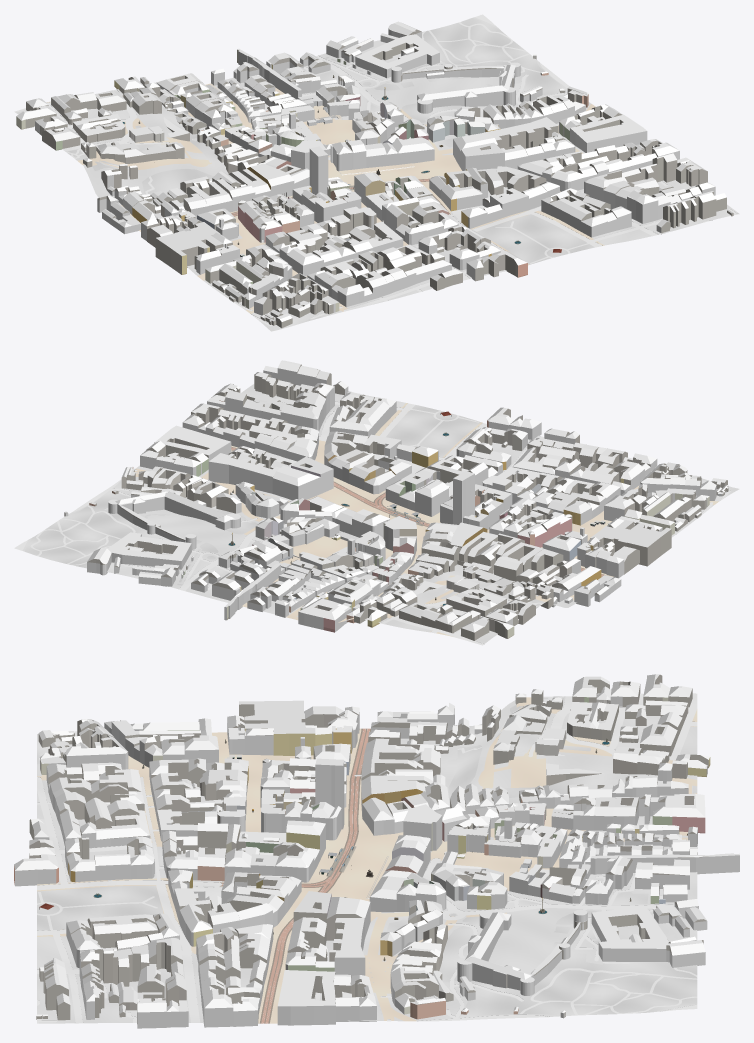
The model's file is zagreb.glb.
The picture shows the model from 3 angles, top to bottom: view 1: azimuth 30°, elevation 25°; view 2: azimuth 150°, elevation 25°; view 3: azimuth 270°, elevation 25°; orthographic projection. The views are drawn at different scales.
Parts seen in each view (by area): view 1: chunk_w1_s1/facade, chunk_w1_s1/roof, chunk_e0_s1/facade, chunk_e0_s1/roof, chunk_e1_s1/facade, chunk_e1_s1/roof, chunk_w1_n0/roof, chunk_w2_s1/facade, chunk_w2_s1/roof, chunk_w1_n0/facade, chunk_w1_s2/facade, chunk_e0_n0/ground (+32 smaller); view 2: chunk_w1_s1/facade, chunk_e1_s1/roof, chunk_e0_s1/facade, chunk_e0_s1/roof, chunk_w1_n0/roof, chunk_e1_s1/facade, chunk_w1_s1/roof, chunk_w1_n0/facade, chunk_w2_s1/roof, chunk_e0_n1/facade, chunk_w2_s1/facade, chunk_e1_n0/facade (+31 smaller); view 3: chunk_e1_s1/roof, chunk_e0_s1/roof, chunk_w1_s1/roof, chunk_w1_n0/roof, chunk_e1_s1/facade, chunk_w1_s1/facade, chunk_e1_n1/ground, chunk_e0_n0/ground, chunk_w2_s1/roof, chunk_w1_n1/roof, chunk_e1_n0/ground, chunk_w1_n0/facade (+36 smaller).
Part boxes in pixels (x1=…): chunk_w1_s1/facade: x1=238, y1=149, x2=444, y2=266; chunk_w1_s1/roof: x1=238, y1=146, x2=451, y2=262; chunk_e0_s1/facade: x1=395, y1=139, x2=589, y2=232; chunk_e0_s1/roof: x1=399, y1=132, x2=586, y2=229; chunk_e1_s1/facade: x1=496, y1=112, x2=707, y2=201; chunk_e1_s1/roof: x1=484, y1=106, x2=706, y2=190; chunk_w1_n0/roof: x1=166, y1=105, x2=352, y2=197; chunk_w2_s1/facade: x1=147, y1=211, x2=323, y2=302; chunk_w2_s1/roof: x1=151, y1=208, x2=323, y2=297; chunk_w1_n0/facade: x1=166, y1=109, x2=353, y2=211; chunk_w1_s2/facade: x1=320, y1=233, x2=498, y2=307; chunk_e0_n0/ground: x1=303, y1=78, x2=468, y2=179; chunk_w1_s1/facade: x1=399, y1=456, x2=595, y2=547; chunk_e1_s1/roof: x1=146, y1=383, x2=321, y2=476; chunk_e0_s1/facade: x1=264, y1=418, x2=476, y2=505; chunk_e0_s1/roof: x1=264, y1=415, x2=475, y2=493; chunk_w1_n0/roof: x1=300, y1=514, x2=520, y2=582; chunk_e1_s1/facade: x1=146, y1=384, x2=321, y2=493; chunk_w1_s1/roof: x1=399, y1=451, x2=594, y2=537; chunk_w1_n0/facade: x1=300, y1=519, x2=524, y2=590; chunk_w2_s1/roof: x1=543, y1=482, x2=700, y2=561; chunk_e0_n1/facade: x1=111, y1=534, x2=317, y2=620; chunk_w2_s1/facade: x1=542, y1=485, x2=701, y2=574; chunk_e1_n0/facade: x1=89, y1=451, x2=240, y2=542; chunk_e1_s1/roof: x1=137, y1=917, x2=364, y2=1012; chunk_e0_s1/roof: x1=130, y1=847, x2=370, y2=956; chunk_w1_s1/roof: x1=139, y1=758, x2=346, y2=860; chunk_w1_n0/roof: x1=361, y1=742, x2=566, y2=857; chunk_e1_s1/facade: x1=137, y1=918, x2=365, y2=1028; chunk_w1_s1/facade: x1=139, y1=761, x2=346, y2=871; chunk_e1_n1/ground: x1=561, y1=947, x2=697, y2=1015; chunk_e0_n0/ground: x1=351, y1=862, x2=560, y2=959; chunk_w2_s1/roof: x1=134, y1=700, x2=357, y2=774; chunk_w1_n1/roof: x1=546, y1=747, x2=709, y2=855; chunk_e1_n0/ground: x1=361, y1=947, x2=560, y2=1021; chunk_w1_n0/facade: x1=361, y1=745, x2=567, y2=868.
Size of the model in its own units: 694 by 78.23 by 693.
